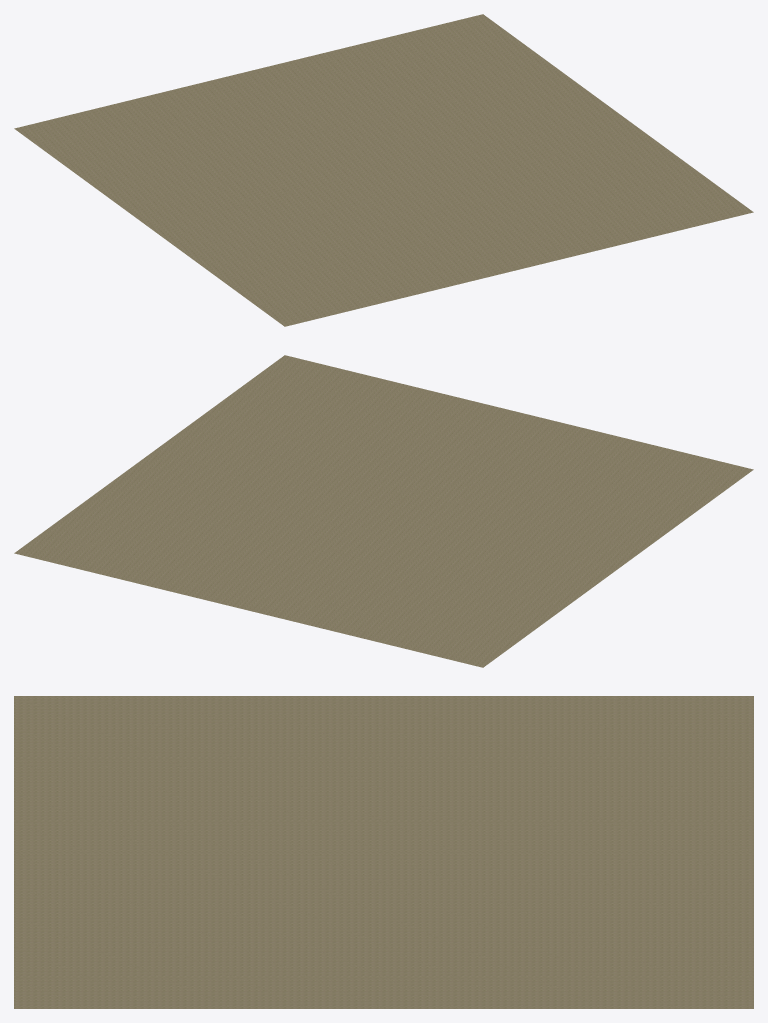
The model's file is floor.glb.
The picture shows the model from 3 angles, top to bottom: view 1: azimuth 30°, elevation 25°; view 2: azimuth 150°, elevation 25°; view 3: azimuth 270°, elevation 25°; orthographic projection. The views are drawn at different scales.
Visible parts, largest first — view 1: Grid.001; view 2: Grid.001; view 3: Grid.001.
Boxes of the visible parts, x1,y1,x2,y2 form: Grid.001: [14, 14, 753, 326]; Grid.001: [14, 355, 753, 667]; Grid.001: [14, 696, 753, 1008].
Bounding box in the file's own units: 246 × 0 × 246.
Materials: 1 (1 with a texture image).
